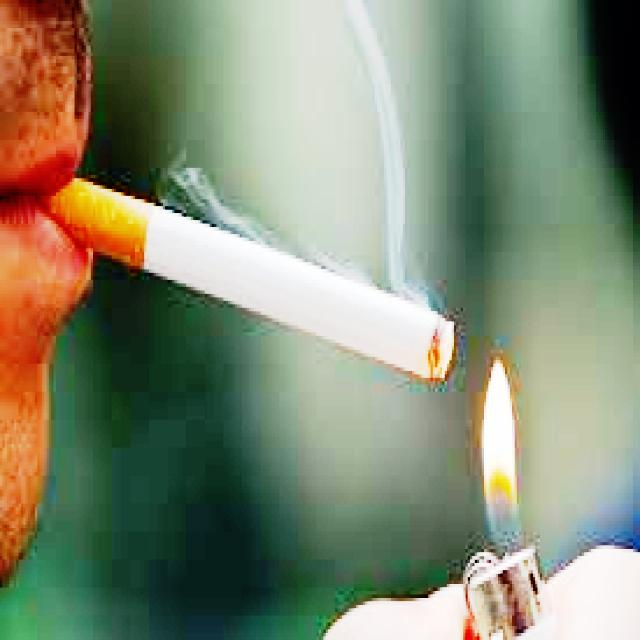api: (467, 354, 544, 536)
